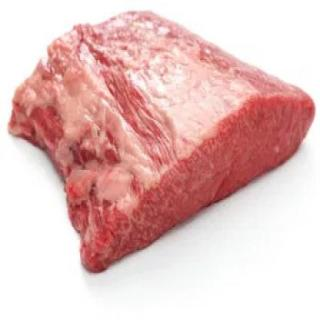Daging Sapi: (9, 9, 318, 275)
